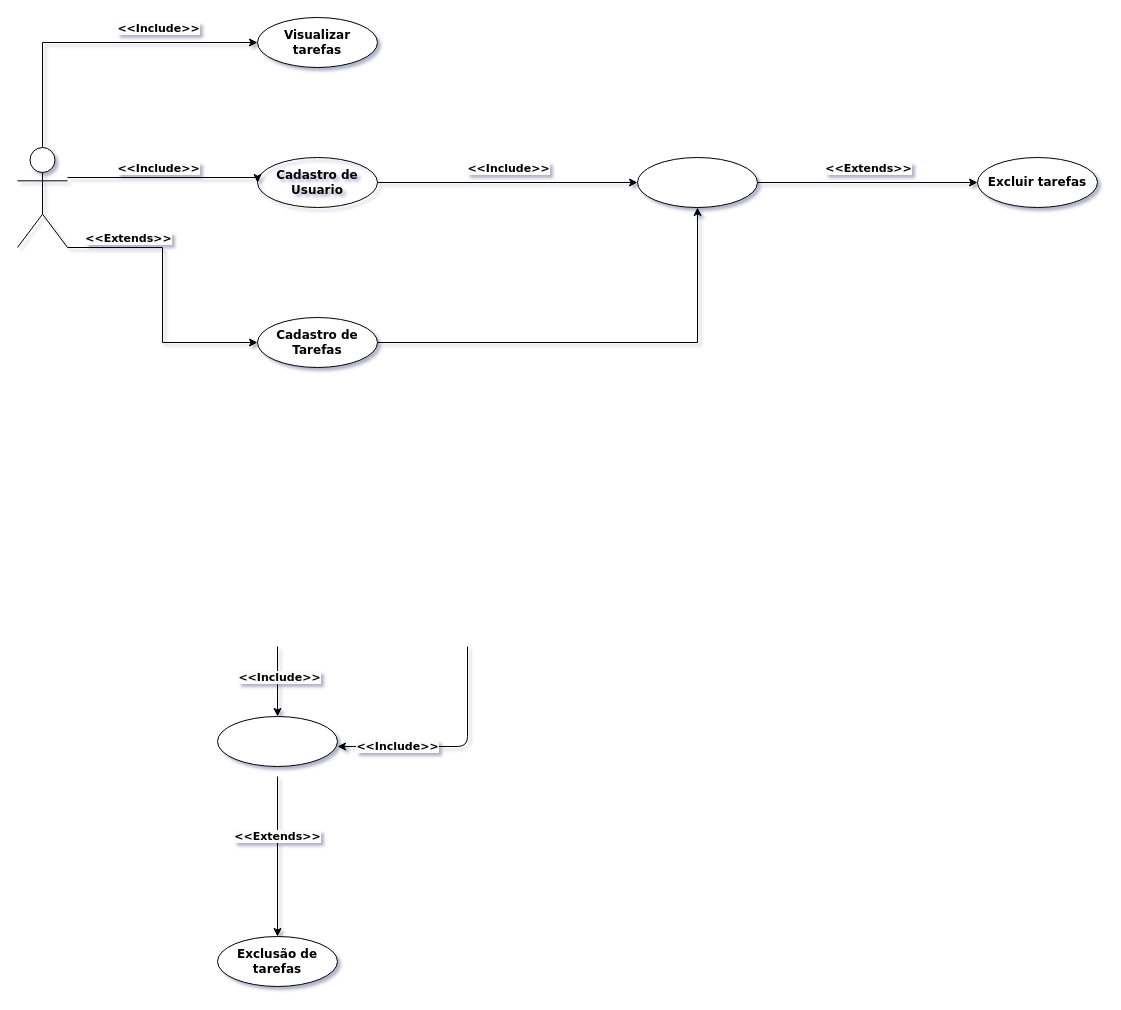
Some shapes in this 1121 by 1010 pixel diagram are drawn without their labels. Each missing label, with the box of its shape:
Atualizar tarefas: (636, 156, 758, 208)
Atualização de tarefas: (216, 716, 338, 766)
usuário: (16, 146, 68, 248)
